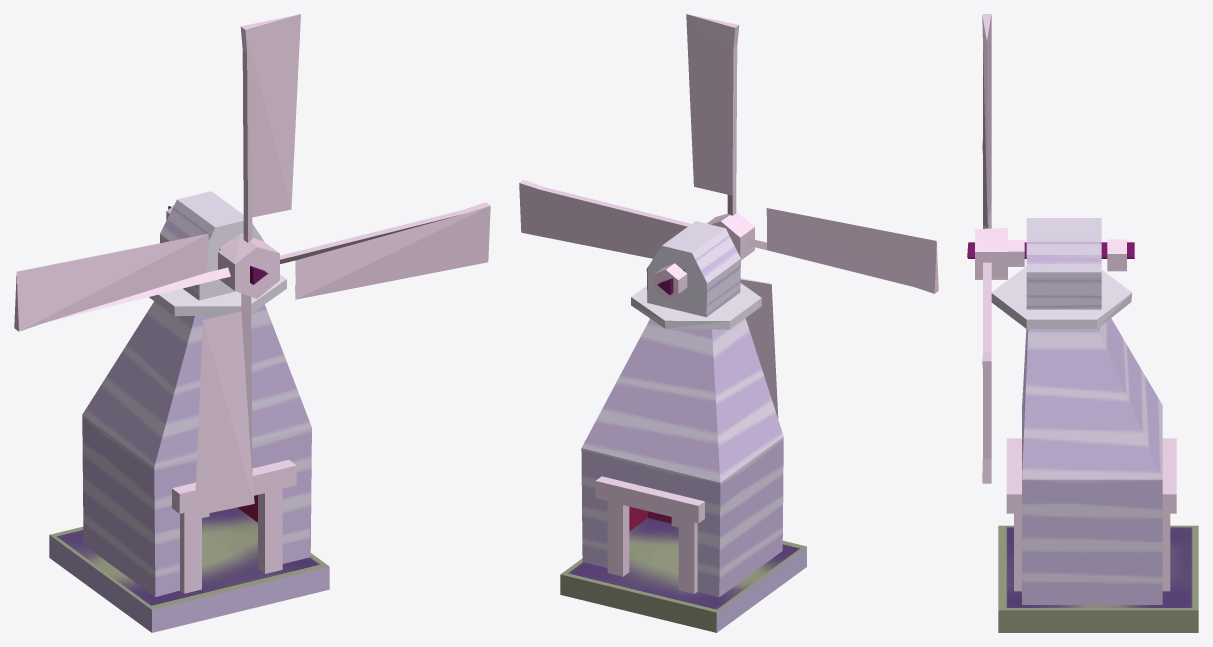
File: windmill1.obj
3 renders of one model, left to right at view 1: azimuth 30°, elevation 25°; view 2: azimuth 150°, elevation 25°; view 3: azimuth 270°, elevation 25°, orthographic. The views are drawn at different scales.
Visible parts, largest first — view 1: polySurface3; view 2: polySurface3; view 3: polySurface3.
Boxes of the visible parts, x1,y1,x2,y2 form: polySurface3: [14, 14, 490, 632]; polySurface3: [519, 14, 938, 632]; polySurface3: [967, 14, 1198, 632].
Bounding box in the file's own units: 266 × 317 × 116.
